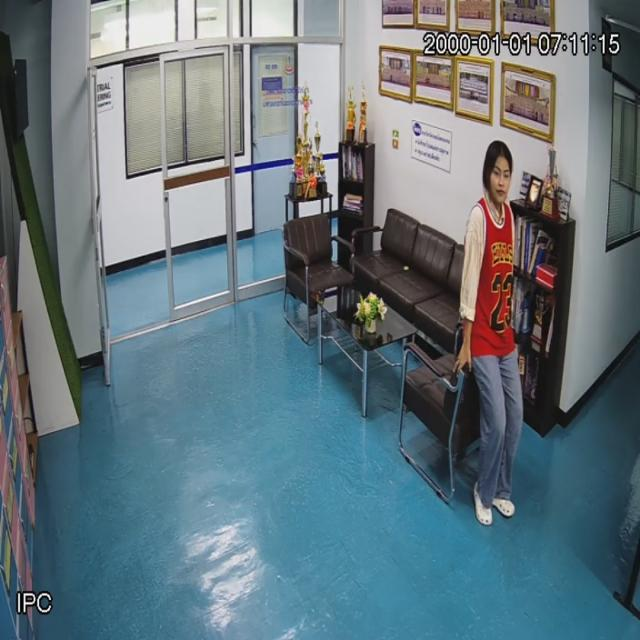normal: (460, 135, 525, 526)
